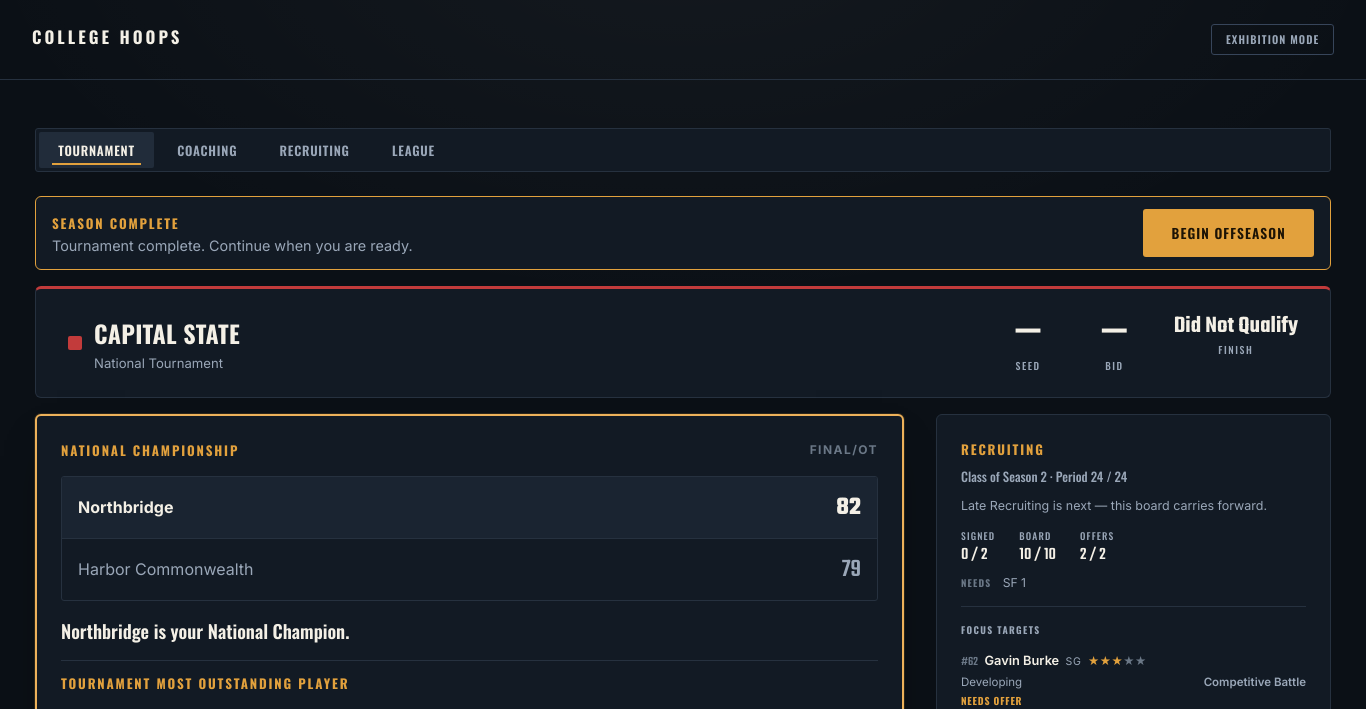
Scenario: Season-complete handoff › keeps the screenshot-state handoff actionable from Period 24 through navigation
Expected: the text "Tournament complete. Continue when you are ready." is shown, x1=52 y1=237 x2=412 y2=254
Expected: the text "Late Recruiting is next — this board carries forward." is shown, x1=961 y1=498 x2=1306 y2=513
Click the button "League" at (413, 150), box x1=373 y1=132 x2=454 y2=168
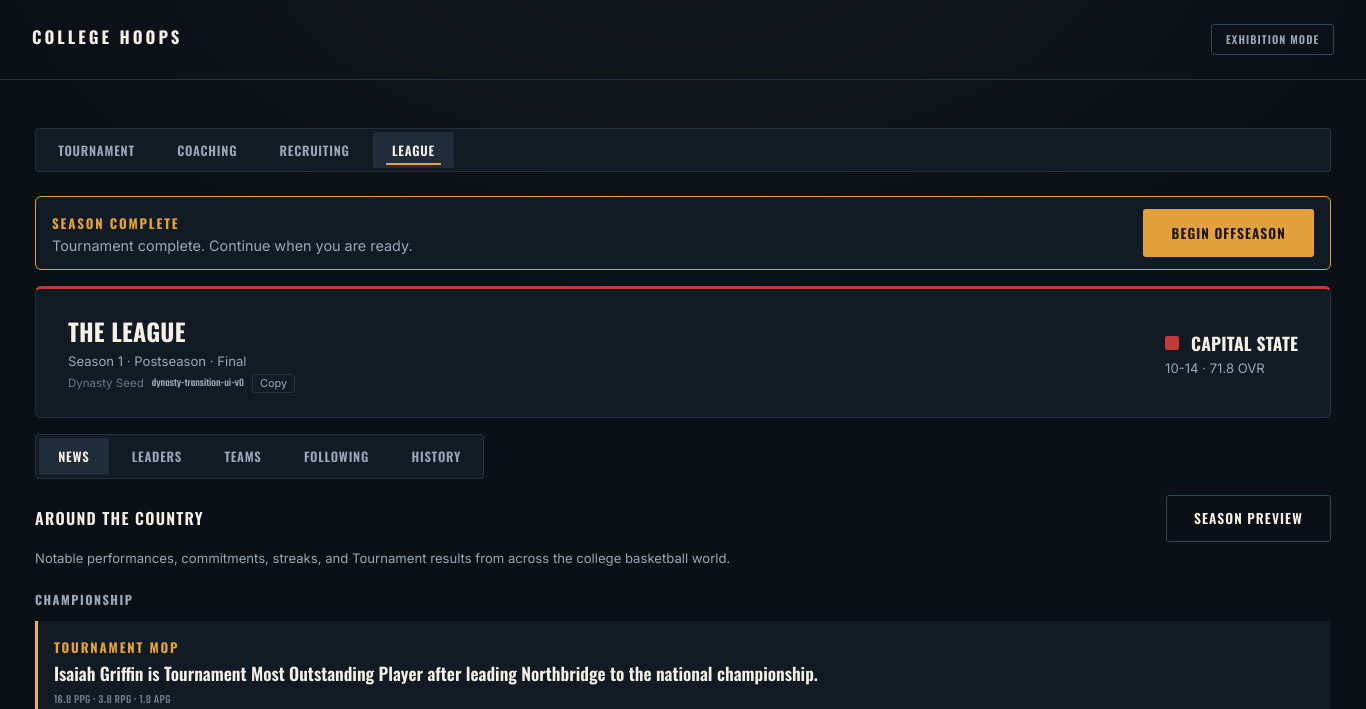
Click the button "Begin Offseason" at (1229, 233), box x1=1143 y1=209 x2=1314 y2=257
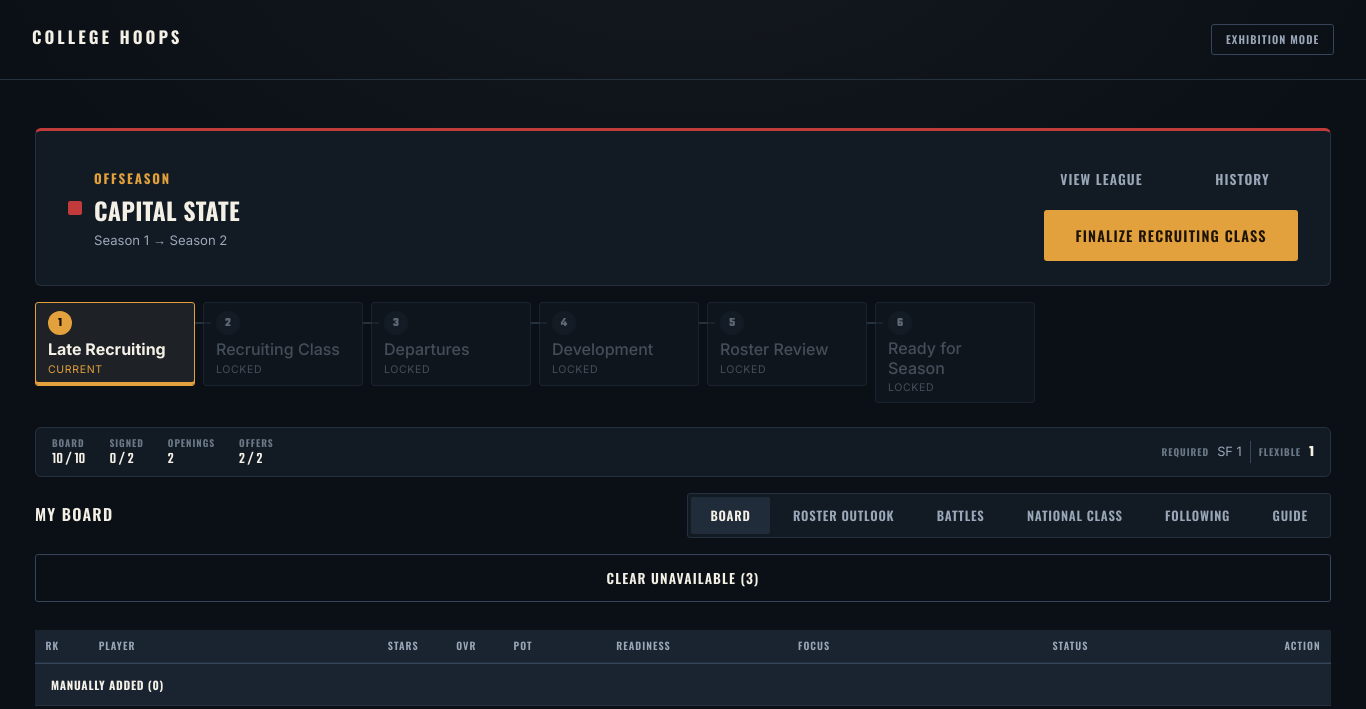
Expected: the button "Begin Offseason" is gone
